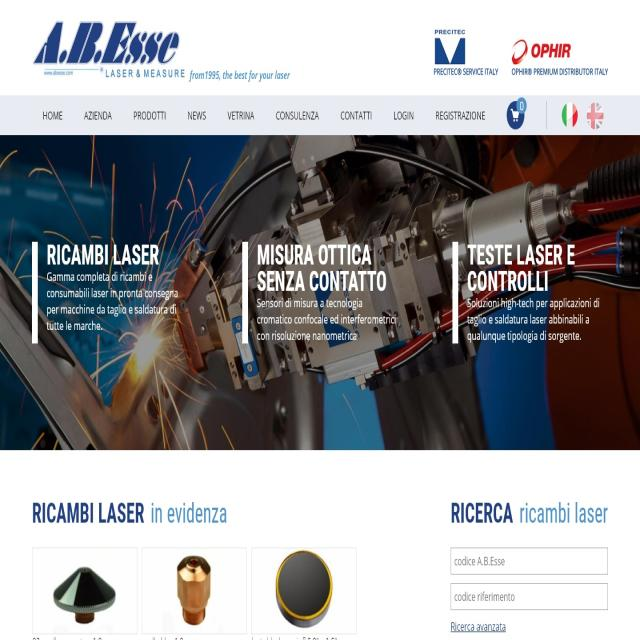button: (430, 104, 490, 131), (270, 104, 324, 132), (130, 100, 170, 130), (334, 104, 378, 130), (223, 103, 259, 130), (80, 103, 118, 128), (389, 102, 419, 132), (180, 101, 213, 128), (39, 100, 66, 130), (506, 100, 527, 130), (587, 99, 605, 132), (560, 102, 578, 130)
field: (451, 583, 609, 611), (451, 548, 609, 574)
heading: (28, 14, 180, 68), (255, 242, 388, 294), (465, 239, 578, 294), (32, 498, 228, 529), (449, 498, 610, 530), (44, 242, 160, 266)
image: (1, 136, 640, 451), (32, 548, 136, 636), (142, 547, 245, 633), (251, 548, 356, 632), (505, 28, 610, 82), (427, 28, 501, 78)
label: (453, 589, 516, 607), (454, 553, 506, 572)
link: (450, 620, 508, 637)
text: (44, 271, 182, 336), (253, 296, 400, 348), (465, 298, 601, 346), (103, 68, 292, 83), (511, 64, 608, 80), (432, 63, 500, 78)
